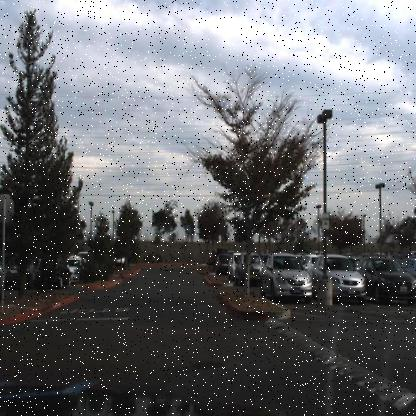car: (312, 254, 366, 306), (259, 251, 311, 302), (363, 256, 415, 306), (37, 257, 71, 289), (234, 252, 262, 288), (8, 256, 34, 292), (235, 252, 260, 286), (66, 257, 84, 284), (227, 250, 243, 279), (0, 250, 8, 299), (214, 254, 231, 277), (69, 254, 82, 284), (213, 251, 228, 275), (6, 257, 18, 284)
